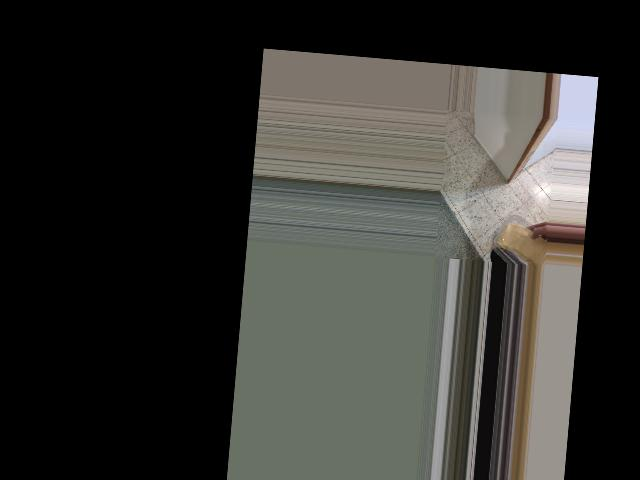cheese: (491, 214, 550, 267)
